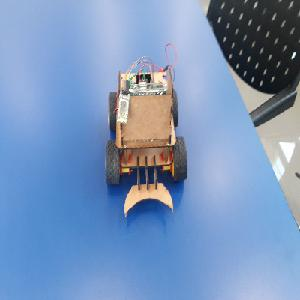Robot: (105, 68, 188, 217)
